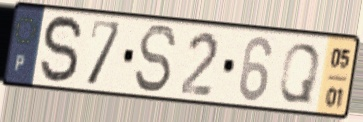2: (178, 29, 221, 100)
6: (237, 33, 274, 104)
7: (86, 17, 123, 89)
Q: (276, 41, 323, 106)
S: (38, 13, 85, 87), (132, 23, 179, 96)
